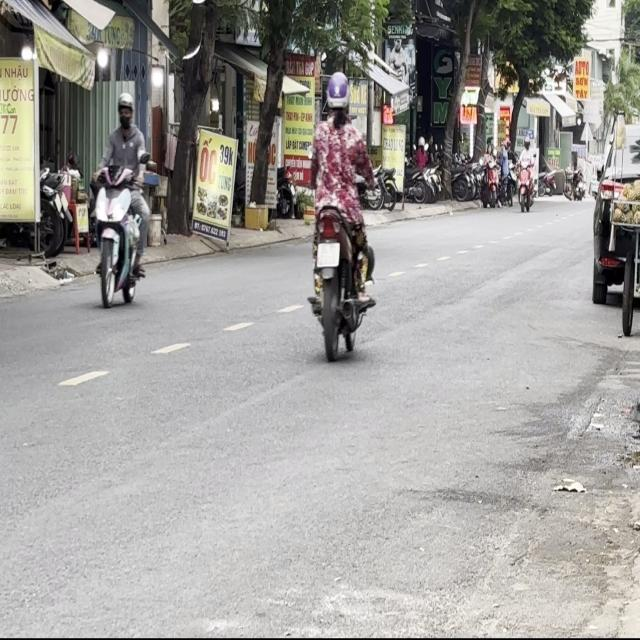helmet: (324, 70, 351, 119), (115, 91, 134, 127)
licenseplate: (305, 68, 377, 358), (89, 89, 151, 307)
nohelmet: (316, 242, 339, 266)
